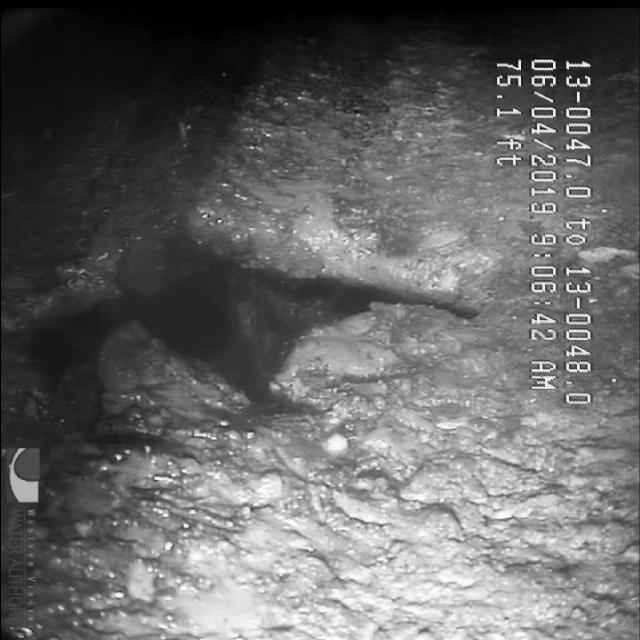Fracture: (80, 192, 482, 444)
